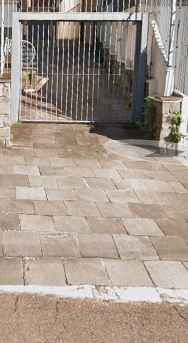vag30: (1, 237, 188, 331)
